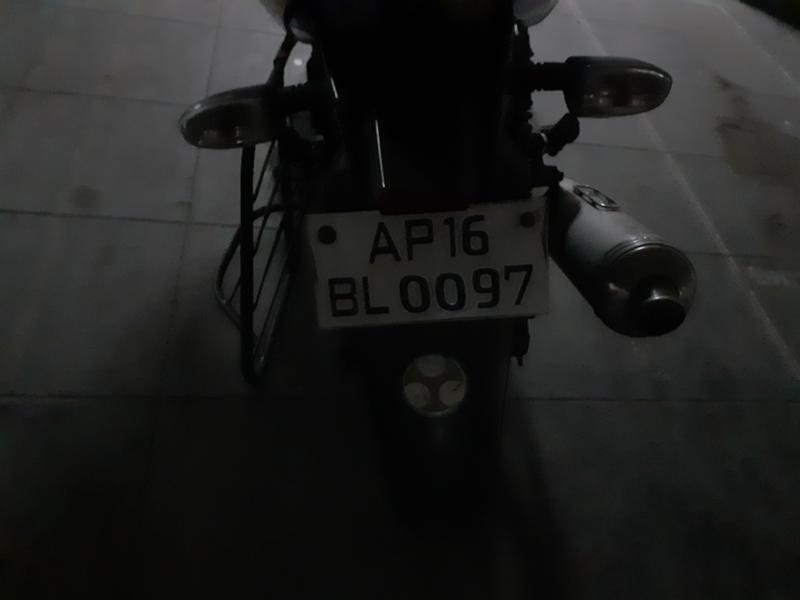numberplate: (299, 216, 571, 333)
